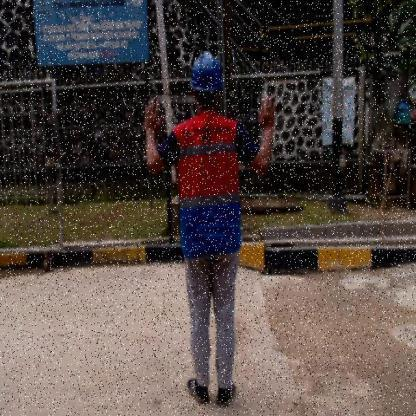helmet: (188, 49, 224, 92)
